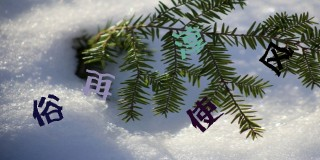使: (186, 96, 223, 132)
俗: (32, 93, 64, 127)
再: (82, 68, 115, 102)
淳: (172, 26, 209, 59)
风: (258, 41, 294, 77)
